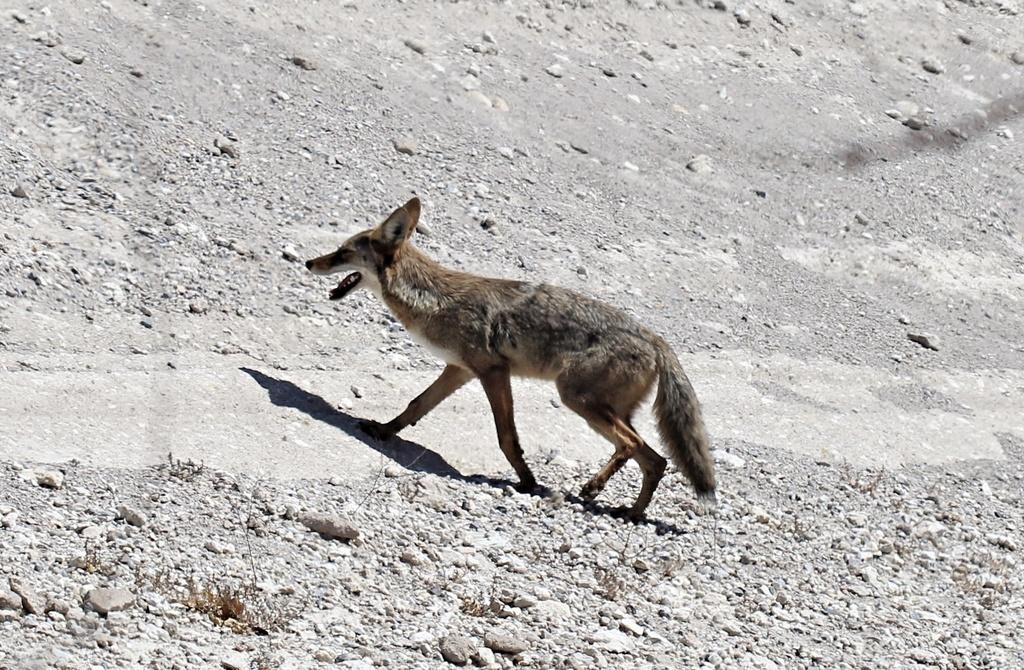Coyote: (304, 195, 724, 526)
